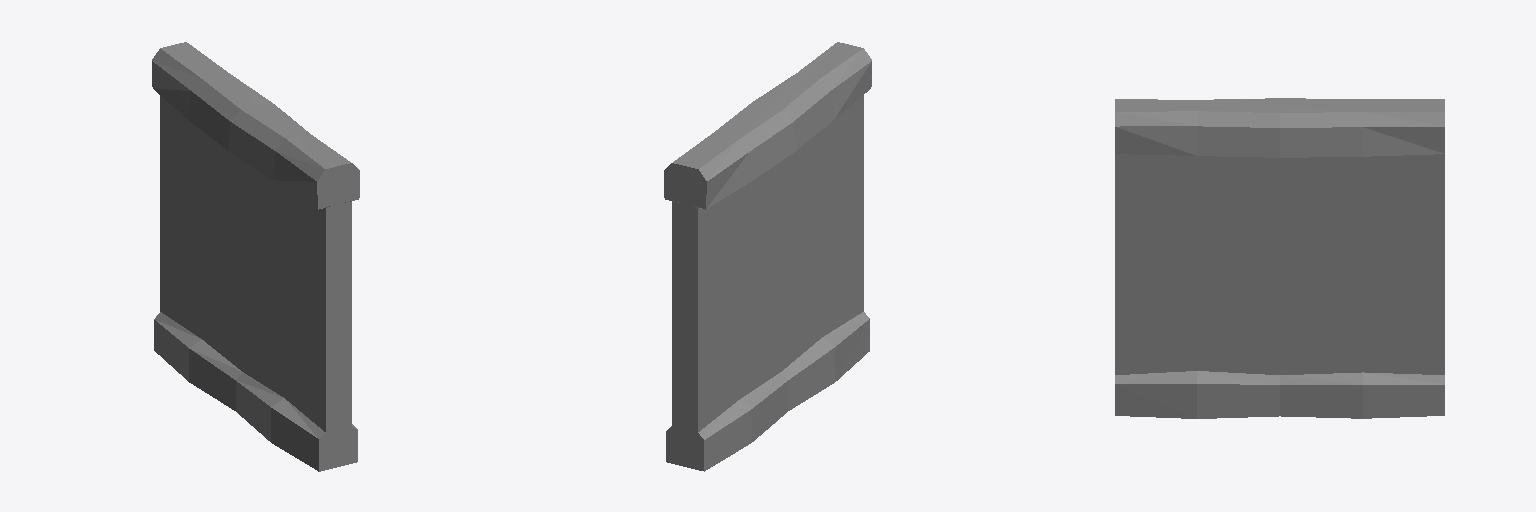
File: WallBCK.obj
The picture shows the model from 3 angles: view 1: azimuth 30°, elevation 25°; view 2: azimuth 150°, elevation 25°; view 3: azimuth 270°, elevation 25°; orthographic projection.
Parts seen in each view (by area): view 1: TEMP; view 2: TEMP; view 3: TEMP.
Boxes of the visible parts, x1=… form: TEMP: x1=152, y1=42, x2=359, y2=471; TEMP: x1=664, y1=42, x2=871, y2=471; TEMP: x1=1115, y1=98, x2=1444, y2=418.
Bounding box in the file's own units: 25.35 × 128 × 128.